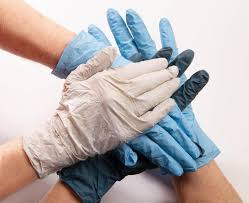gloves: (44, 27, 215, 194)
